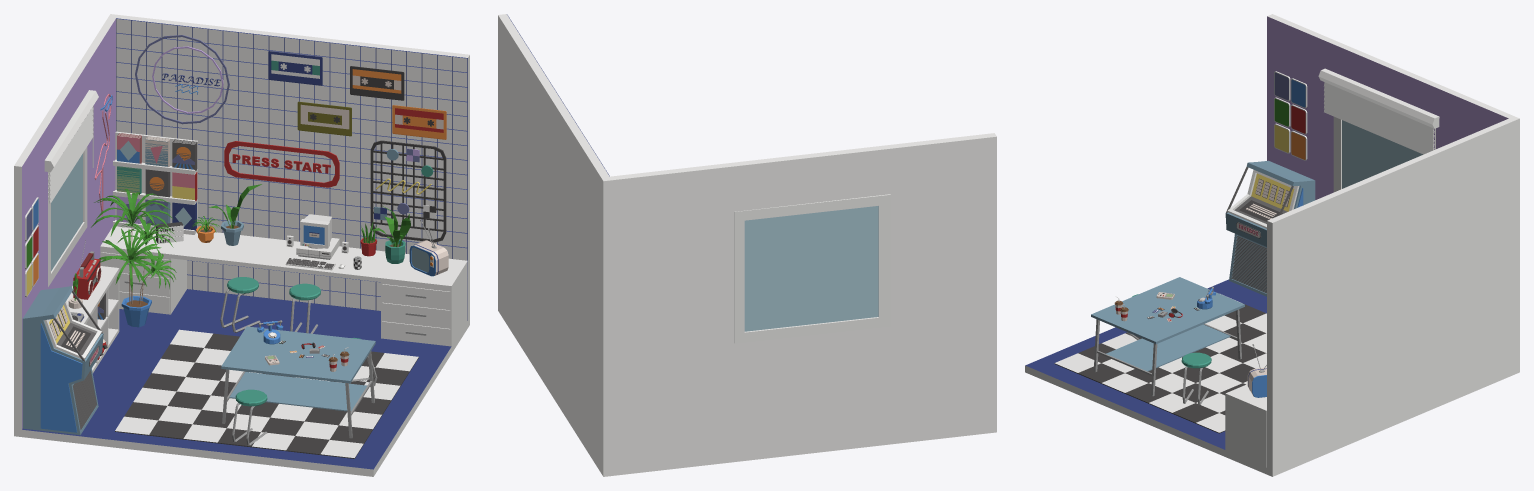
File: Room_9_Neon_Room.fbx
3 views of the same model, side by side, from view 1: azimuth 30°, elevation 25°; view 2: azimuth 150°, elevation 25°; view 3: azimuth 270°, elevation 25° (orthographic). The views are drawn at different scales.
Parts seen in each view (by area): view 1: Room_9_Tile_13, Room_9_Base, Room_9_Carpet, Room_9_Table_1, Room_9_Jukebox, Room_9_Table_2, Room_9_Flower_1, Room_9_Window, Room_9_Billboard, Room_9_Blinds, Room_9_Neon_sign, Room_9_Shelf_1 (+25 smaller); view 2: Room_9_Base, Room_9_Window; view 3: Room_9_Base, Room_9_Carpet, Room_9_Table_2, Room_9_Jukebox, Room_9_Blinds, Room_9_Window, Room_9_Table_1, Room_9_Decoration_7, Room_9_Chair_4, Room_9_Television.
Part boxes in pixels (x1,y1,x2,y2): Room_9_Tile_13: [116, 18, 467, 320]; Room_9_Base: [14, 14, 469, 476]; Room_9_Carpet: [115, 329, 418, 458]; Room_9_Table_1: [100, 226, 467, 346]; Room_9_Jukebox: [22, 286, 103, 435]; Room_9_Table_2: [221, 326, 375, 438]; Room_9_Flower_1: [91, 189, 176, 327]; Room_9_Window: [48, 147, 87, 286]; Room_9_Billboard: [370, 140, 446, 242]; Room_9_Blinds: [44, 90, 98, 203]; Room_9_Neon_sign: [224, 141, 339, 187]; Room_9_Shelf_1: [66, 266, 119, 373]; Room_9_Base: [498, 14, 996, 476]; Room_9_Window: [734, 194, 890, 343]; Room_9_Base: [1025, 14, 1519, 476]; Room_9_Carpet: [1054, 294, 1266, 433]; Room_9_Table_2: [1091, 277, 1244, 396]; Room_9_Jukebox: [1225, 160, 1315, 296]; Room_9_Blinds: [1318, 68, 1439, 154]; Room_9_Window: [1333, 116, 1422, 192]; Room_9_Table_1: [1225, 384, 1266, 467]; Room_9_Decoration_7: [1274, 71, 1307, 160]; Room_9_Chair_4: [1181, 352, 1211, 405]; Room_9_Television: [1247, 344, 1266, 397].
Bounding box in the file's own units: 707 × 707 × 401.
